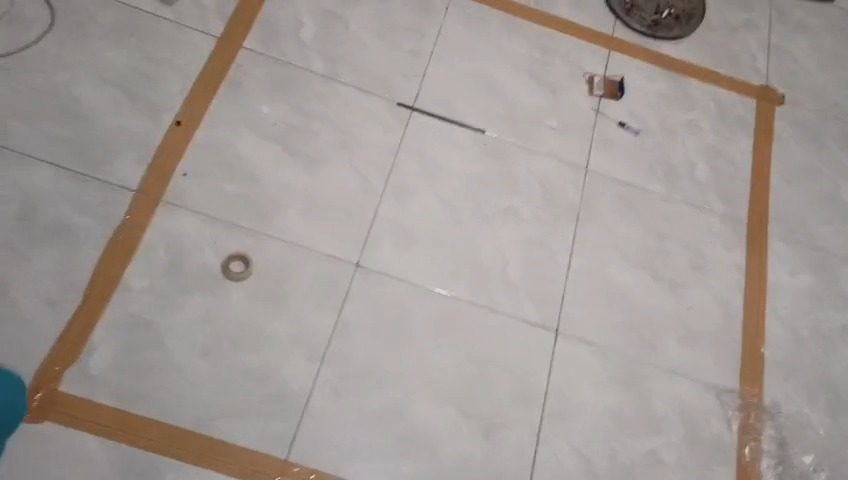floor marking: (480, 0, 784, 479), (27, 0, 307, 479)
